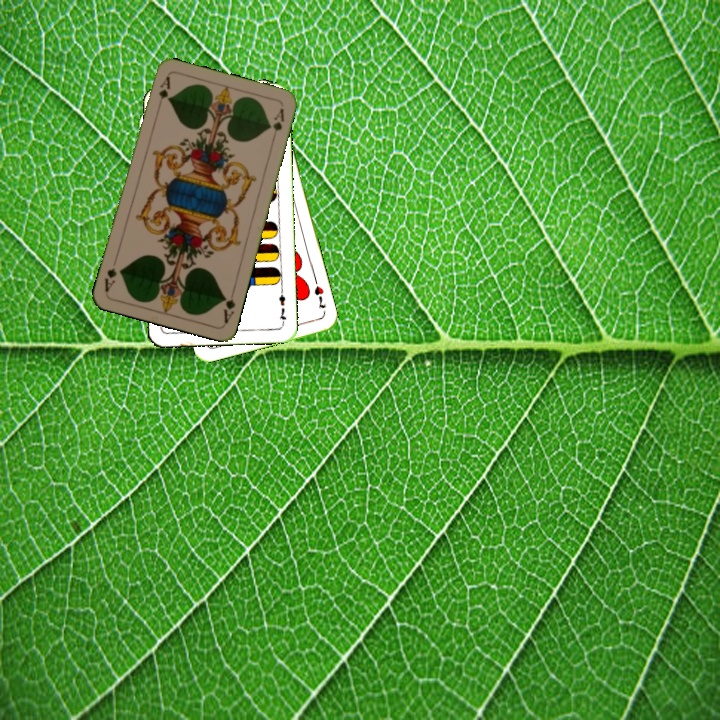E7: (275, 286, 289, 327)
GA: (219, 286, 238, 326), (155, 72, 173, 102)
H7: (310, 281, 329, 311)
